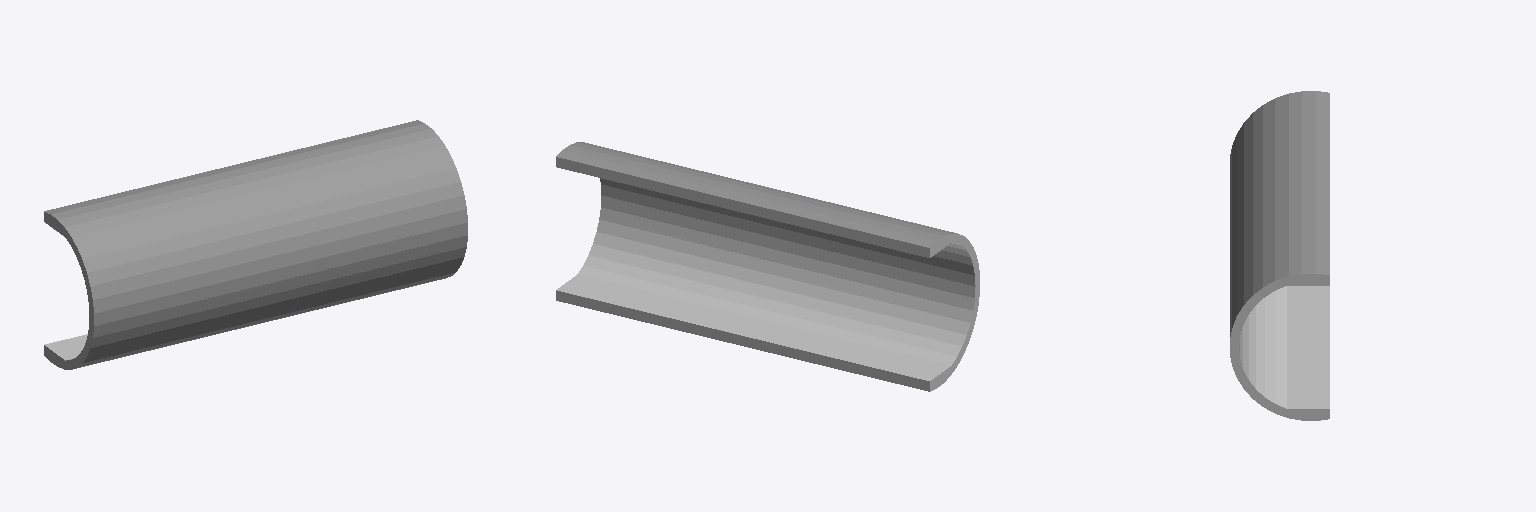
File: LinearTube.obj
The picture shows the model from 3 angles: view 1: azimuth 30°, elevation 25°; view 2: azimuth 150°, elevation 25°; view 3: azimuth 270°, elevation 25°; orthographic projection.
Parts seen in each view (by area): view 1: LinearTube; view 2: LinearTube; view 3: LinearTube.
Part boxes in pixels (bbox=[...]): LinearTube: bbox=[44, 120, 467, 369]; LinearTube: bbox=[556, 142, 979, 391]; LinearTube: bbox=[1230, 91, 1329, 420].
Size of the model in its own units: 45 by 16.96 by 10.47.